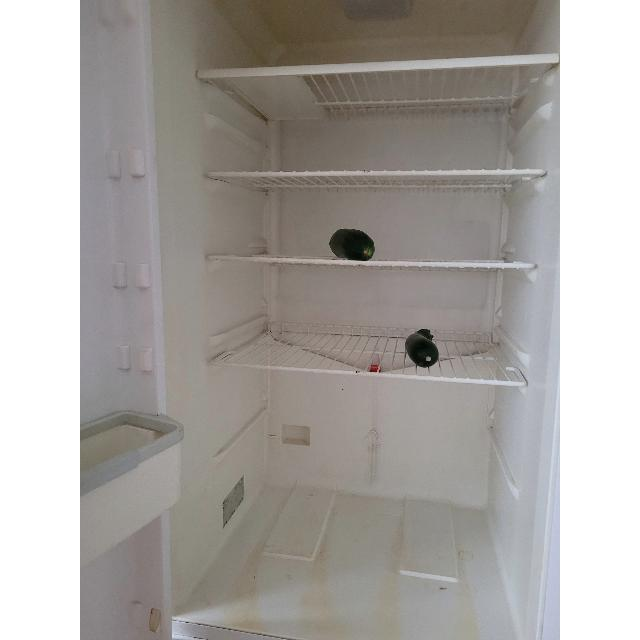zucchini: (330, 228, 376, 260), (405, 329, 439, 367)
